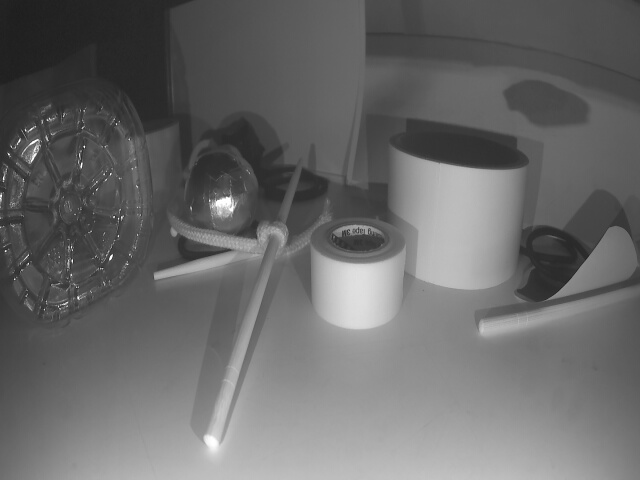Live: (174, 145, 260, 242)
